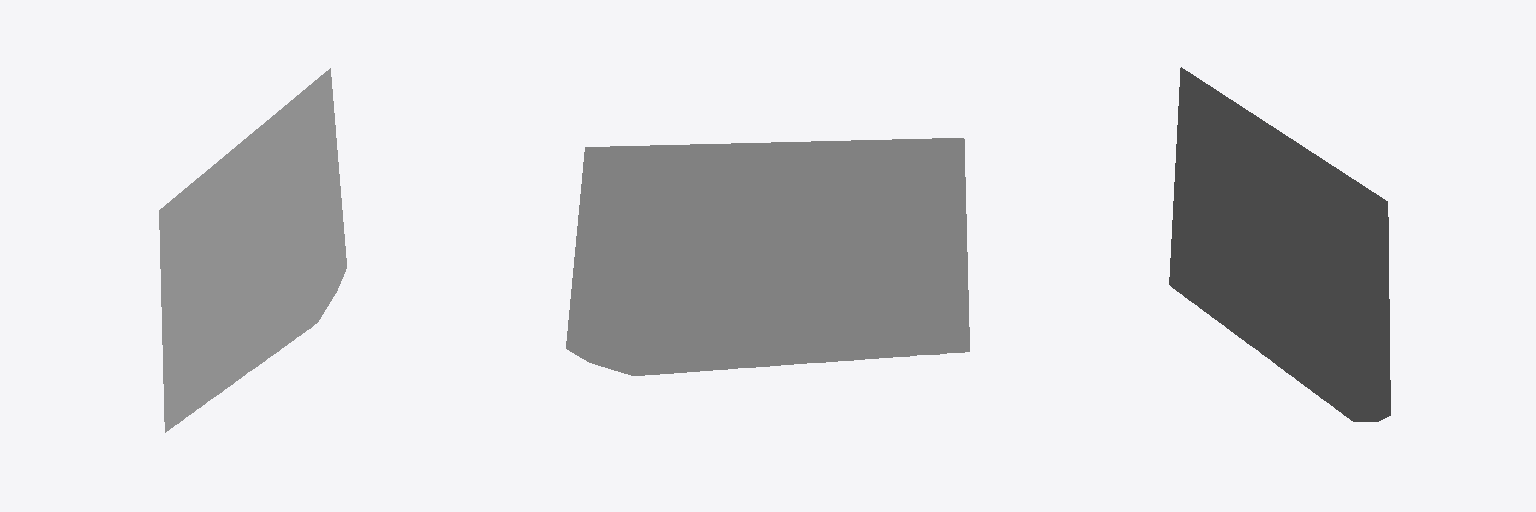
File: wall1-10.obj
3 views of the same model, side by side, from view 1: azimuth 30°, elevation 25°; view 2: azimuth 150°, elevation 25°; view 3: azimuth 270°, elevation 25° (orthographic).
Size of the model in its own units: 6.2 by 4.75 by 4.06.